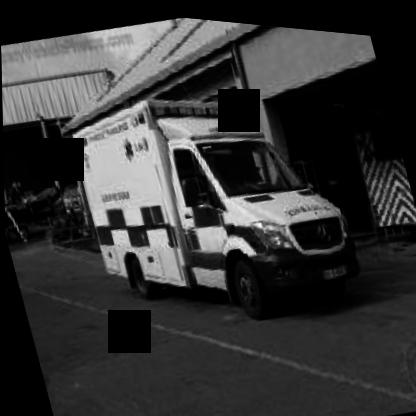emergency: (31, 31, 389, 356)
